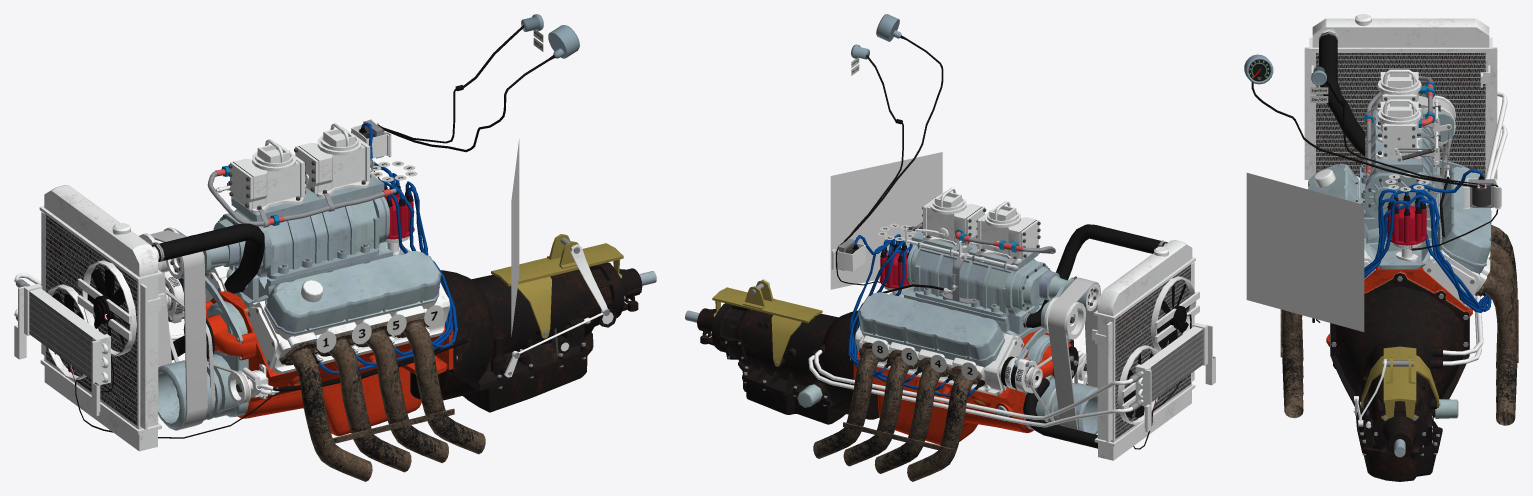
File: ReferencesIgnitionFiring.fbx
3 renders of one model, left to right at view 1: azimuth 30°, elevation 25°; view 2: azimuth 150°, elevation 25°; view 3: azimuth 270°, elevation 25°, orthographic. The views are drawn at different scales.
Visible parts, largest first — view 1: SM_454_Block, SM_TH400.001, SM_Radiator, SM_Exhaust_Manifold_Left.001, SM_Littlefield_Blower, SM_Transcooler, SM_Blower_Belt, SM_Predator, SM_Predator_W_Linkage, SM_Radiator_Pipe_Out, SM_Crankshaft_Pulley, SM_V8_SparkWires (+10 smaller); view 2: SM_TH400.001, SM_454_Block, SM_Radiator, SM_Exhaust_Manifold_Right.001, Plane, SM_Littlefield_Blower, SM_Transcooler, SM_Blower_Belt, SM_Predator_W_Linkage, SM_Transcooler_Pipes, SM_Predator, SM_Radiator_Pipe_Out (+11 smaller); view 3: SM_TH400.001, SM_Radiator, Plane, SM_454_Block, SM_Exhaust_Manifold_Right.001, SM_Littlefield_Blower, SM_Predator_W_Linkage, SM_V8_SparkWires, SM_Exhaust_Manifold_Left.001, SM_Radiator_Pipe_Out, SM_V8_Distributor, SM_Predator (+8 smaller).
Part boxes in pixels (x1=…): SM_454_Block: x1=205, y1=242, x2=453, y2=436; SM_TH400.001: x1=440, y1=234, x2=642, y2=412; SM_Radiator: x1=39, y1=185, x2=165, y2=451; SM_Exhaust_Manifold_Left.001: x1=279, y1=316, x2=485, y2=481; SM_Littlefield_Blower: x1=174, y1=173, x2=389, y2=279; SM_Transcooler: x1=14, y1=283, x2=110, y2=416; SM_Blower_Belt: x1=150, y1=230, x2=207, y2=430; SM_Predator: x1=227, y1=139, x2=308, y2=227; SM_Predator_W_Linkage: x1=215, y1=123, x2=374, y2=211; SM_Radiator_Pipe_Out: x1=151, y1=223, x2=264, y2=293; SM_Crankshaft_Pulley: x1=158, y1=354, x2=235, y2=429; SM_V8_SparkWires: x1=313, y1=173, x2=457, y2=374; SM_TH400.001: x1=697, y1=279, x2=879, y2=424; SM_454_Block: x1=853, y1=286, x2=1053, y2=444; SM_Radiator: x1=1092, y1=240, x2=1199, y2=460; SM_Exhaust_Manifold_Right.001: x1=813, y1=342, x2=981, y2=481; Plane: x1=830, y1=152, x2=942, y2=289; SM_Littlefield_Blower: x1=906, y1=231, x2=1077, y2=328; SM_Transcooler: x1=1135, y1=322, x2=1215, y2=432; SM_Blower_Belt: x1=1048, y1=277, x2=1100, y2=430; SM_Predator_W_Linkage: x1=904, y1=187, x2=1018, y2=269; SM_Transcooler_Pipes: x1=808, y1=349, x2=1142, y2=427; SM_Predator: x1=958, y1=201, x2=1040, y2=269; SM_Radiator_Pipe_Out: x1=1023, y1=224, x2=1167, y2=327; SM_TH400.001: x1=1330, y1=273, x2=1469, y2=481; SM_Radiator: x1=1304, y1=14, x2=1497, y2=179; Plane: x1=1246, y1=173, x2=1364, y2=331; SM_454_Block: x1=1308, y1=163, x2=1491, y2=368; SM_Exhaust_Manifold_Right.001: x1=1475, y1=224, x2=1518, y2=425; SM_Littlefield_Blower: x1=1360, y1=108, x2=1453, y2=220; SM_Predator_W_Linkage: x1=1365, y1=99, x2=1451, y2=164; SM_V8_SparkWires: x1=1364, y1=188, x2=1491, y2=312; SM_Exhaust_Manifold_Left.001: x1=1280, y1=309, x2=1303, y2=418; SM_Radiator_Pipe_Out: x1=1319, y1=32, x2=1365, y2=156; SM_V8_Distributor: x1=1387, y1=197, x2=1426, y2=262; SM_Predator: x1=1365, y1=69, x2=1440, y2=134.
Bounding box in the file's own units: 193 × 132 × 82.75.
